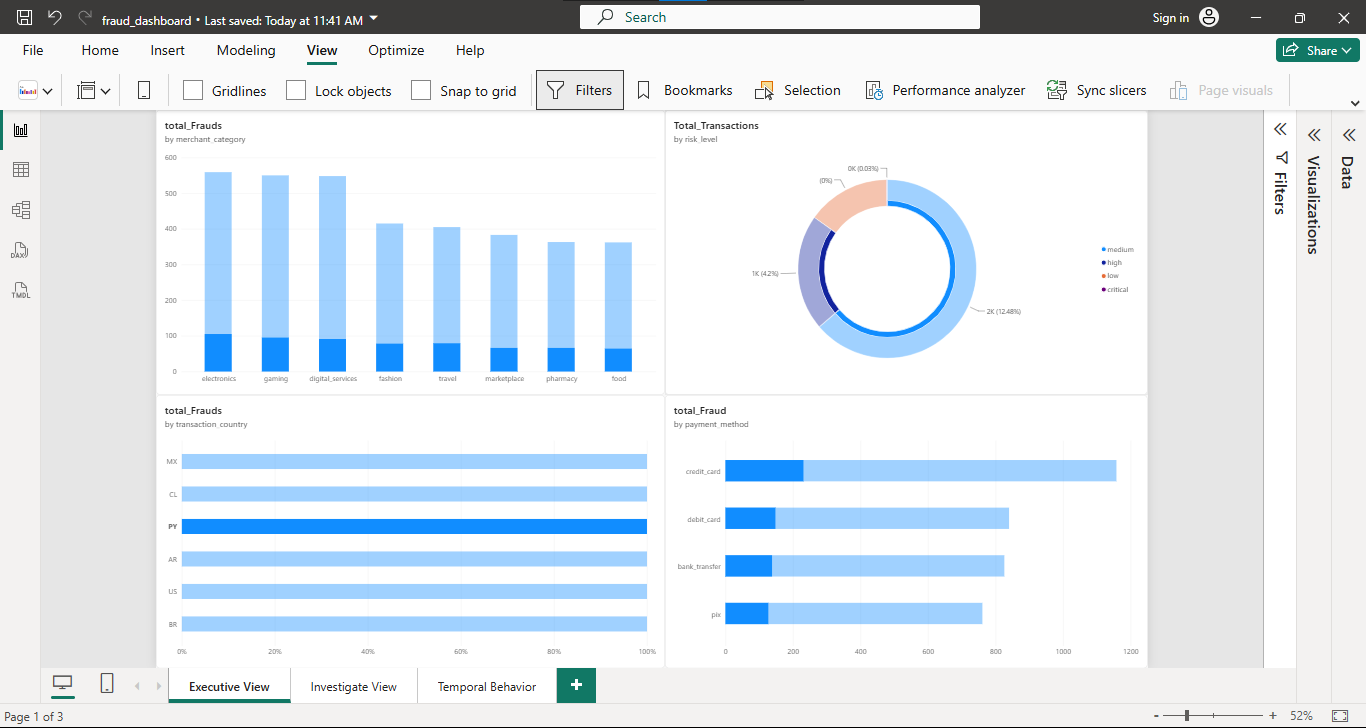

This screenshot's page, from the dashboard's own definition file:
{"tool":"powerbi","page":{"name":"Executive View","canvas":[1920,1080],"ordinal":0},"visuals":[{"type":"clusteredColumnChart","fields":{"Category":["final_transactions_for_bi.merchant_category"],"Y":["final_transactions_for_bi.total_Fraudes"]},"box":[0,0,985.3,551],"z":0},{"type":"hundredPercentStackedBarChart","fields":{"Category":["final_transactions_for_bi.transaction_country"],"Y":["final_transactions_for_bi.total_Fraudes"]},"box":[0,551,985.3,529.1],"z":1},{"type":"donutChart","fields":{"Category":["final_transactions_for_bi.risk_level"],"Y":["final_transactions_for_bi.Total_Transacoes"]},"box":[985.3,0,934.2,551],"z":2},{"type":"barChart","fields":{"Category":["final_transactions_for_bi.payment_method"],"Y":["final_transactions_for_bi.total_Fraudes"]},"box":[985.3,551,934.2,529.1],"z":3}]}

Visuals, with their boxes on the page's 1920x1080 design canvas (x1, y1, x2, y2). These are canvas units, not pixel positions in the 1366x728 screenshot, which may show the page scaled, cropped or inside an application window:
clusteredColumnChart - final_transactions_for_bi.merchant_category x final_transactions_for_bi.total_Fraudes: 0:0:985:551
hundredPercentStackedBarChart - final_transactions_for_bi.transaction_country x final_transactions_for_bi.total_Fraudes: 0:551:985:1080
donutChart - final_transactions_for_bi.risk_level x final_transactions_for_bi.Total_Transacoes: 985:0:1920:551
barChart - final_transactions_for_bi.payment_method x final_transactions_for_bi.total_Fraudes: 985:551:1920:1080
